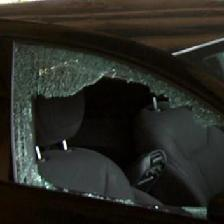glass_shatter: (7, 30, 224, 209)
